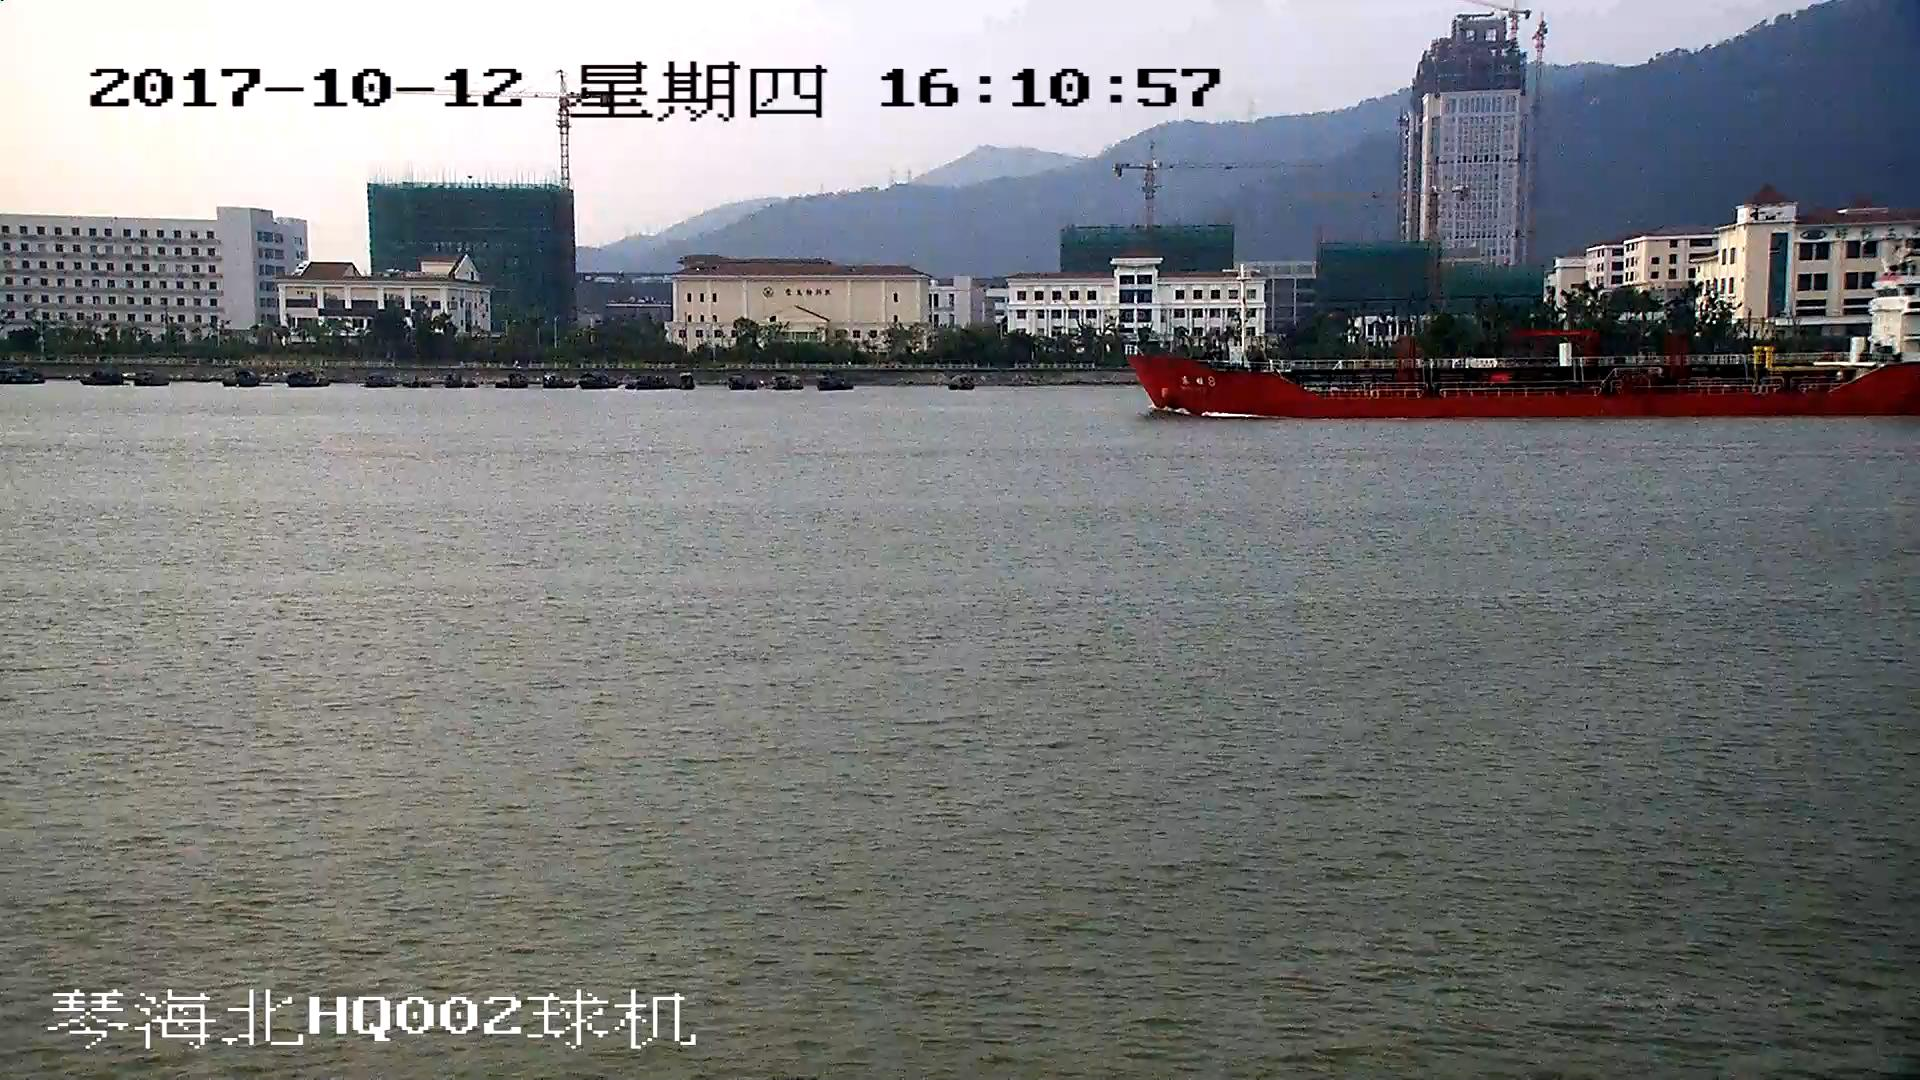general cargo ship: (1136, 260, 1920, 422)
